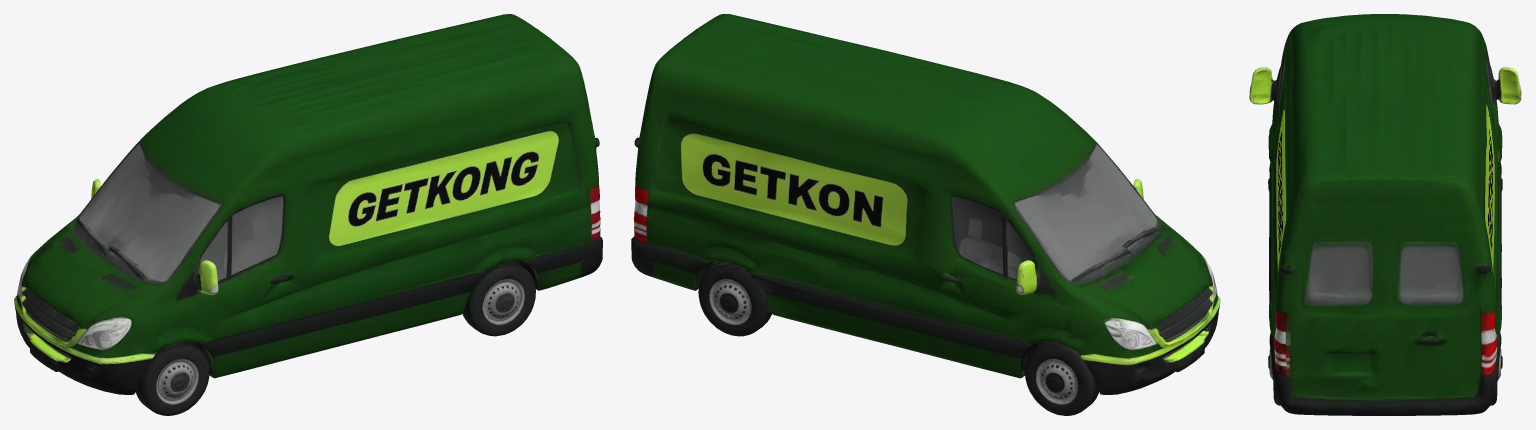
Rendered from getkong-van.glb.
3 views of the same model, side by side, from view 1: azimuth 30°, elevation 25°; view 2: azimuth 150°, elevation 25°; view 3: azimuth 270°, elevation 25° (orthographic). The views are drawn at different scales.
Visible parts, largest first — view 1: Mesh_0; view 2: Mesh_0; view 3: Mesh_0.
Boxes of the visible parts, x1,y1,x2,y2 form: Mesh_0: (14, 14, 602, 415); Mesh_0: (631, 14, 1220, 415); Mesh_0: (1249, 14, 1521, 415).
Size of the model in its own units: 1.9 by 0.8552 by 0.7705.
1 material, 1 textured.
